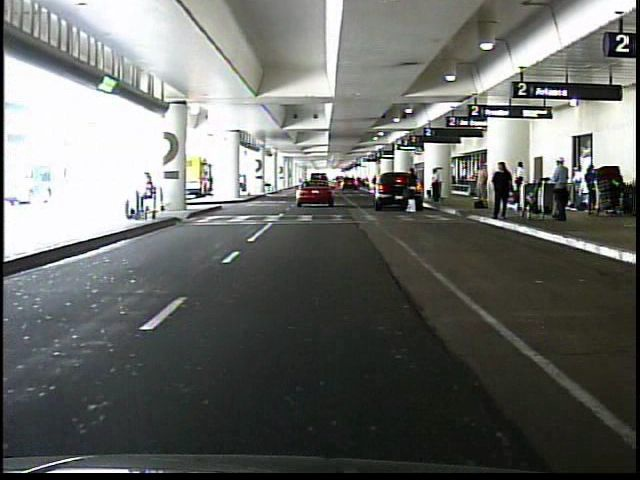person: (550, 156, 569, 228), (492, 160, 512, 220), (135, 171, 157, 221), (568, 167, 587, 210), (584, 165, 598, 216), (512, 160, 525, 203), (408, 169, 420, 215), (430, 168, 441, 204)
